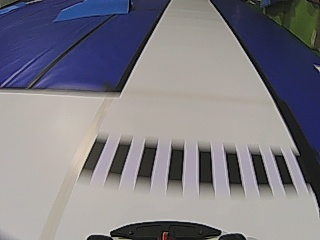CrossWalk: (80, 136, 301, 187)
